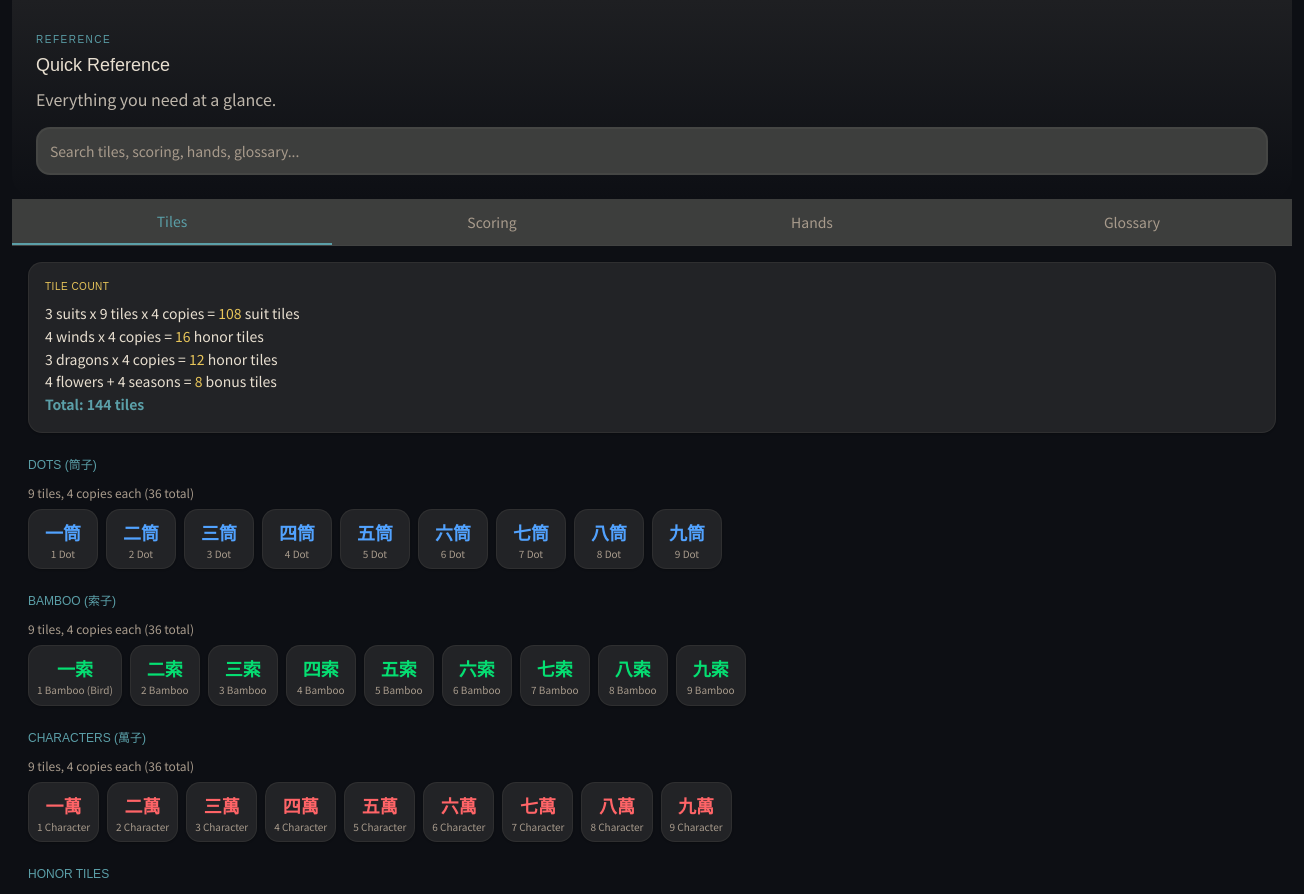
Test case: ReferencePage › searches across reference content without forcing a tab switch
Type "dragon" into the search field named "search reference" at (652, 151), box [36,127,1268,175]
(page scrolled)
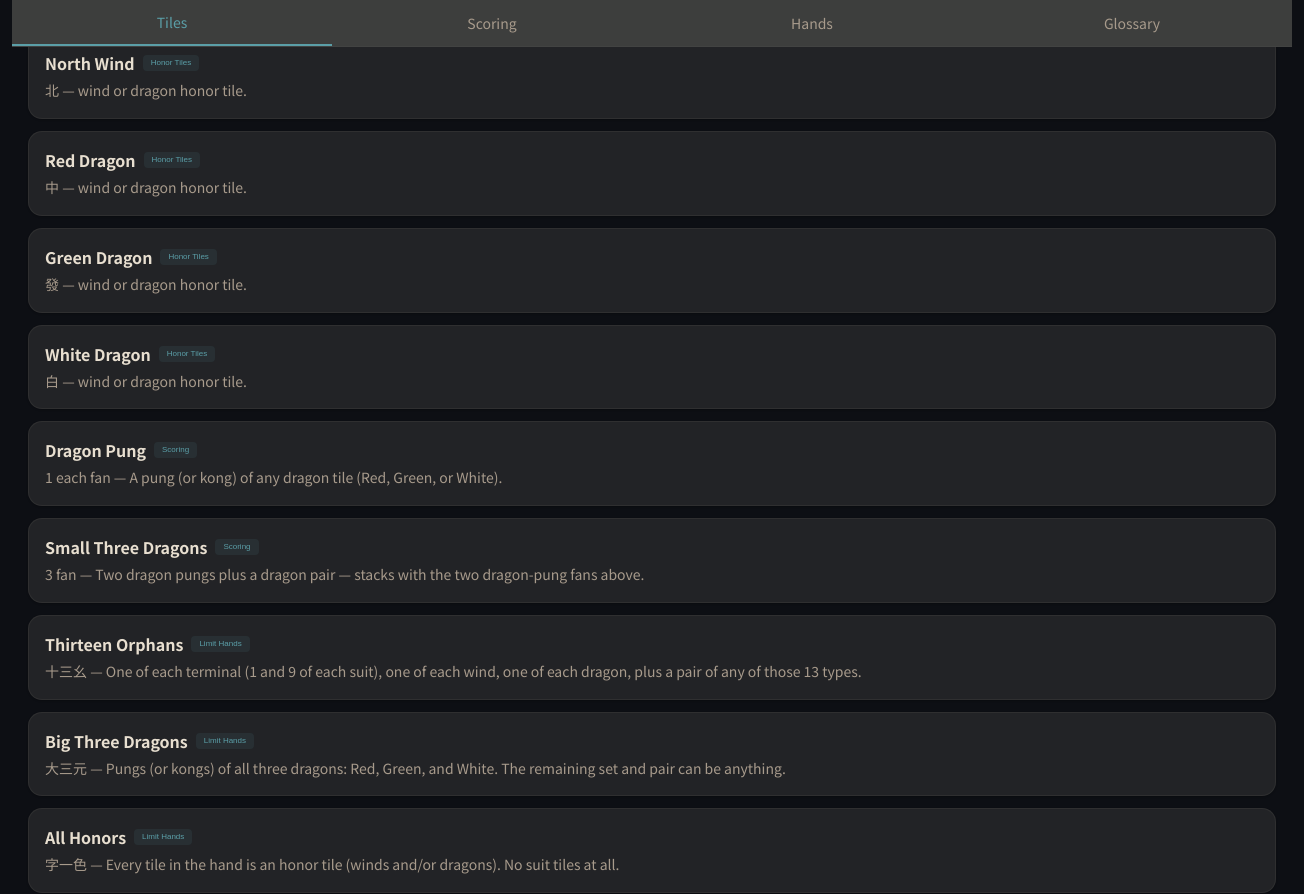
Expected: the heading "Red Dragon" is shown, [45,148,136,172]
Expected: the heading "Dragon Pung" is shown, [45,438,146,462]
